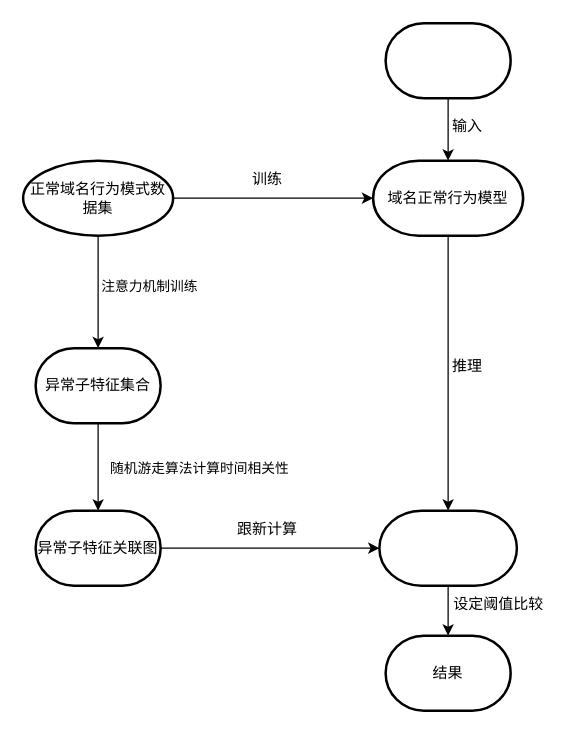
Some shapes in this 581 by 733 pixel diagram are drawn without their labels. The centre of each missing label's shape, as x and y in pixels:
"可疑域名节点" belongs at [447,60].
"域名节点异常评分" belongs at [448,547].
